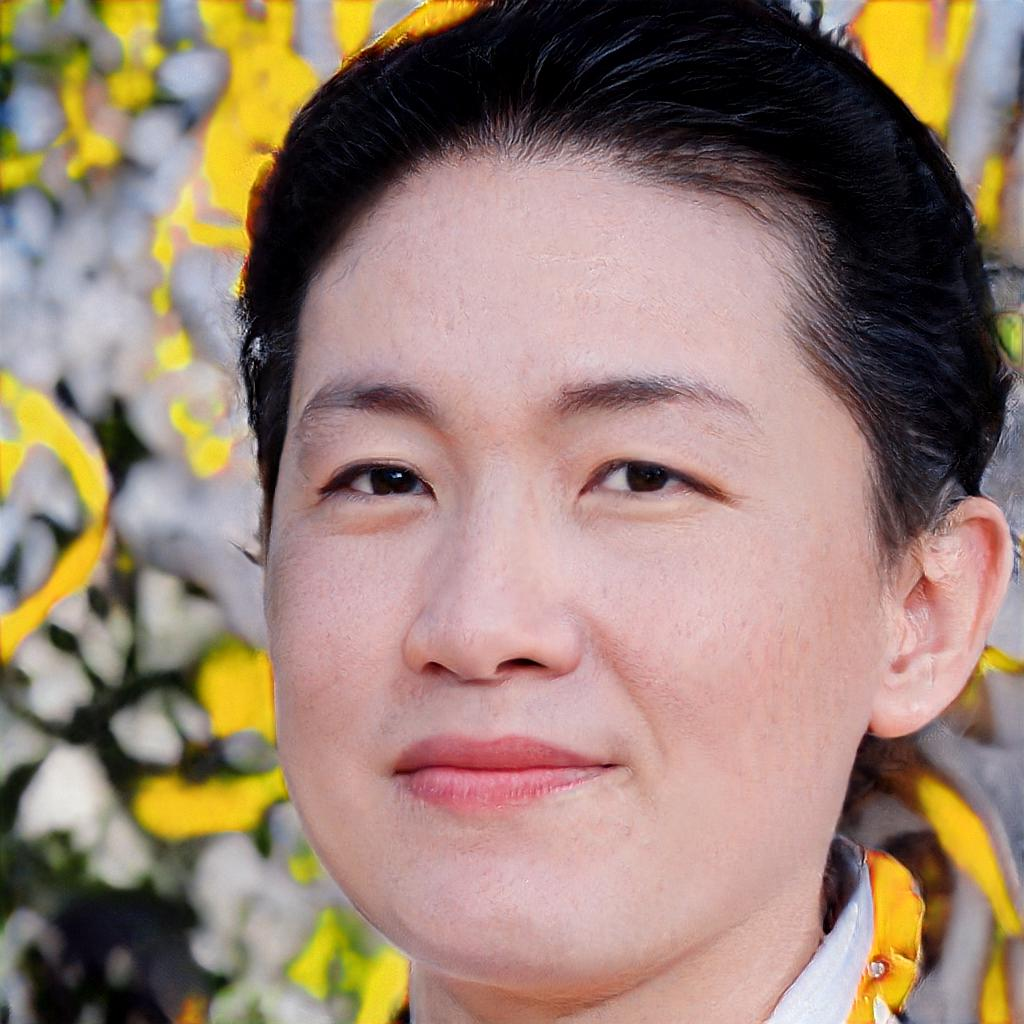face: (266, 153, 870, 999)
